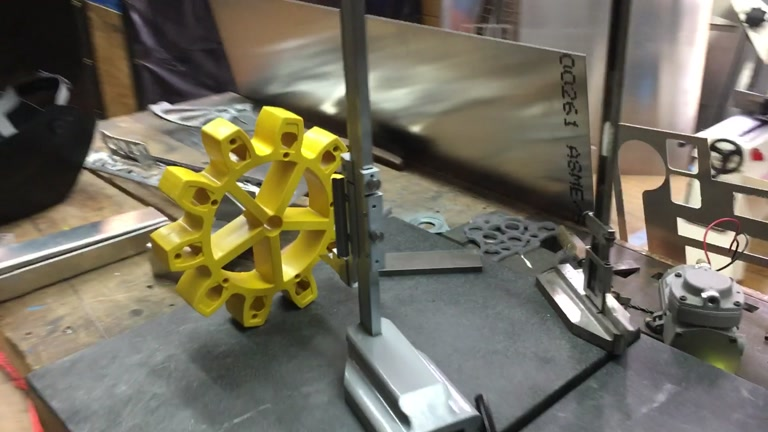gear: (148, 105, 369, 329)
